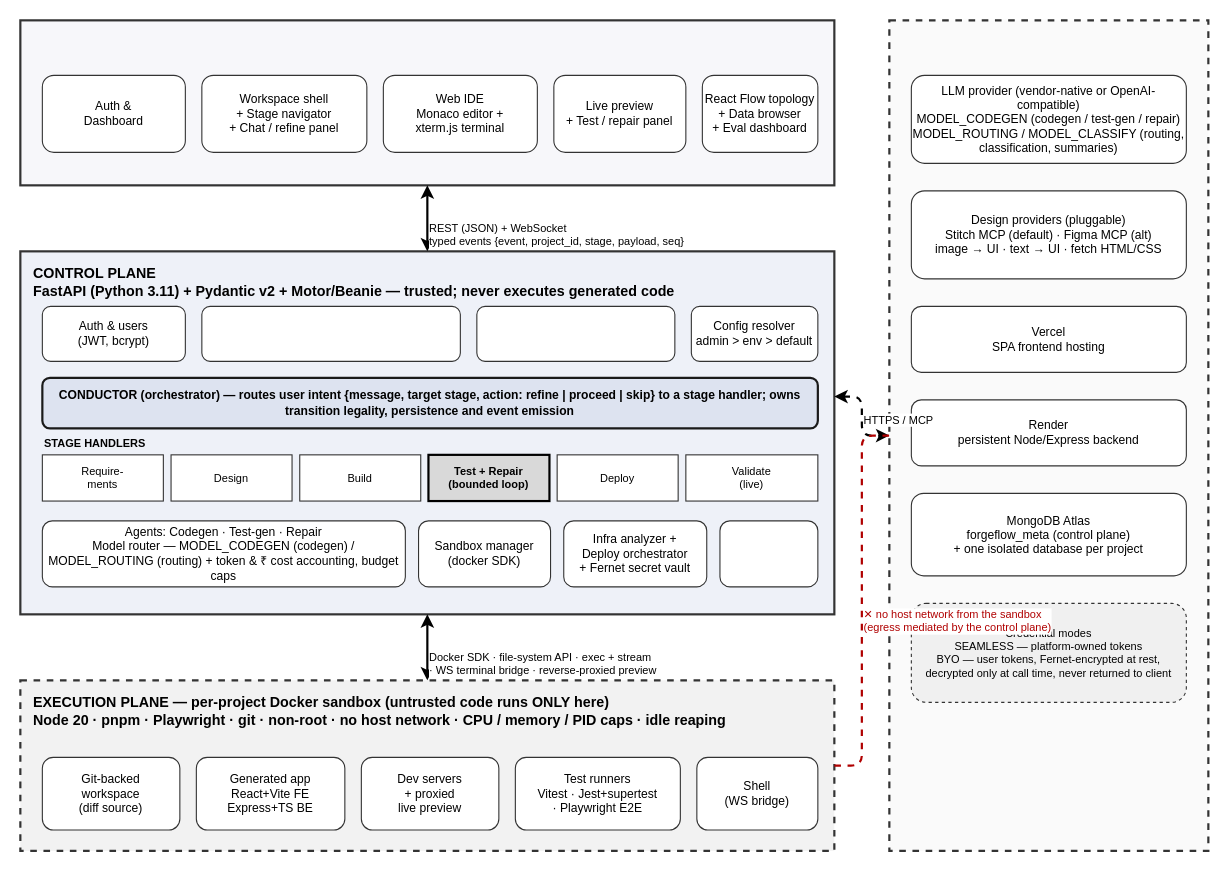
Image size: 1228x870. Some labels were removed from this diagram. Each missing label, with the box of its shape:
Eval harness + metrics: (719, 520, 818, 587)
EXTERNAL PROVIDERS: (888, 19, 1209, 851)
PRESENTATION PLANE React 18 + Vite + TypeScript + Tailwind — installable PWA: (19, 19, 835, 186)
Projects + StageState machine (non-linear transitions, staleness cascade): (201, 305, 460, 361)
Realtime hub (WebSocket) typed events, seq-resumable: (476, 305, 675, 361)
